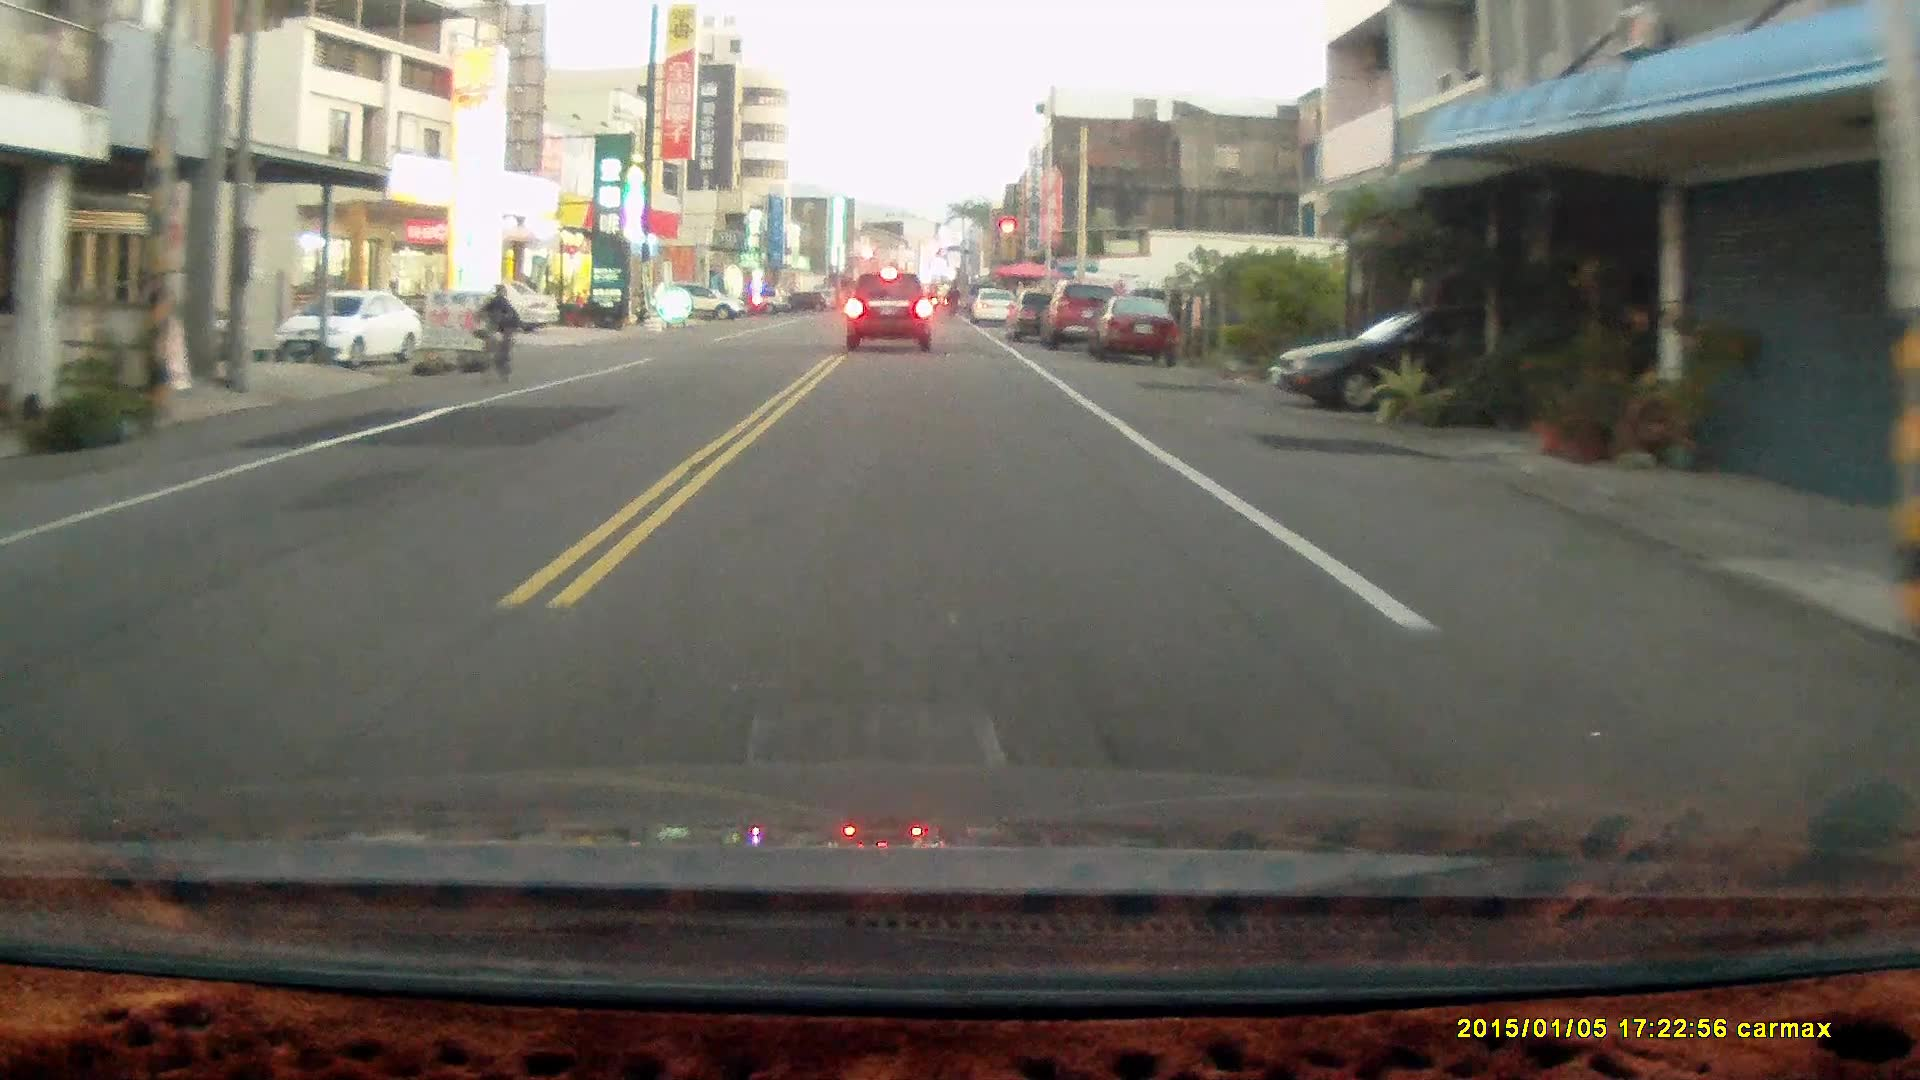rider: (469, 282, 516, 392)
vehicle: (1266, 300, 1619, 411), (273, 292, 420, 371), (421, 281, 564, 339), (842, 267, 937, 349), (1085, 298, 1182, 372), (1042, 280, 1126, 349), (658, 282, 745, 321)
